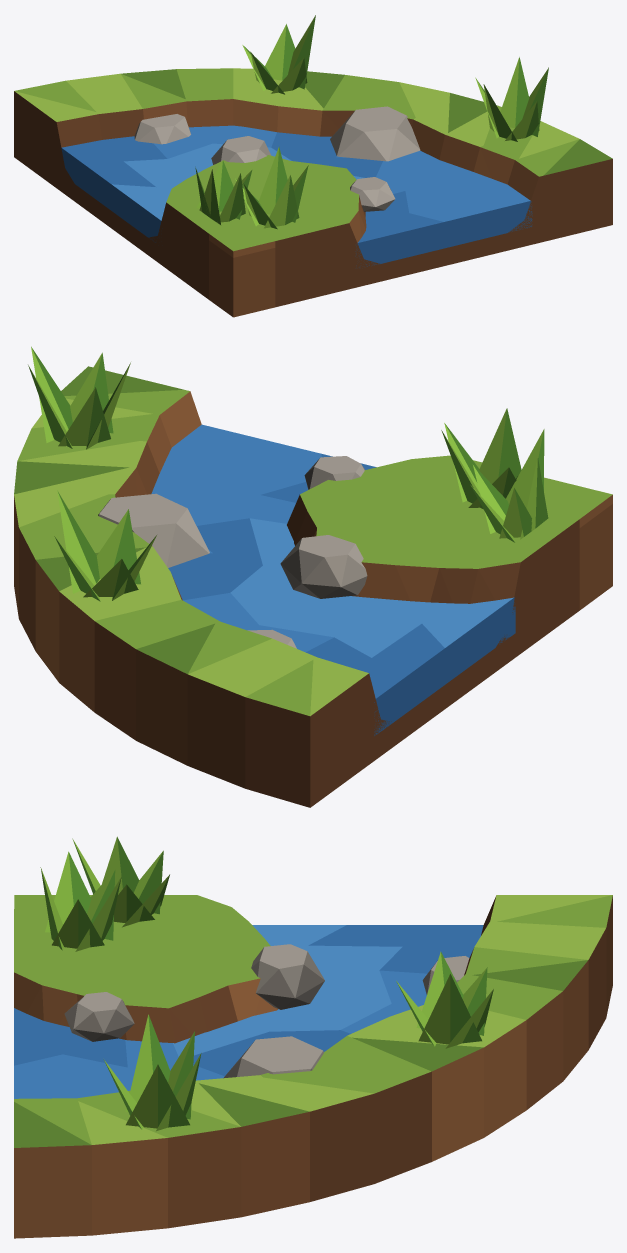
Rendered from FMS_Water_Stream_Curve.fbx.
The picture shows the model from 3 angles, top to bottom: view 1: azimuth 30°, elevation 25°; view 2: azimuth 150°, elevation 25°; view 3: azimuth 270°, elevation 25°; orthographic projection. The views are drawn at different scales.
Visible parts, largest first — view 1: FMS_Water_Stream_Curve; view 2: FMS_Water_Stream_Curve; view 3: FMS_Water_Stream_Curve.
Boxes of the visible parts, x1,y1,x2,y2 form: FMS_Water_Stream_Curve: (14, 15, 612, 317); FMS_Water_Stream_Curve: (14, 346, 612, 807); FMS_Water_Stream_Curve: (14, 836, 612, 1238).
Bounding box in the file's own units: 1.8 × 0.5757 × 1.8.
